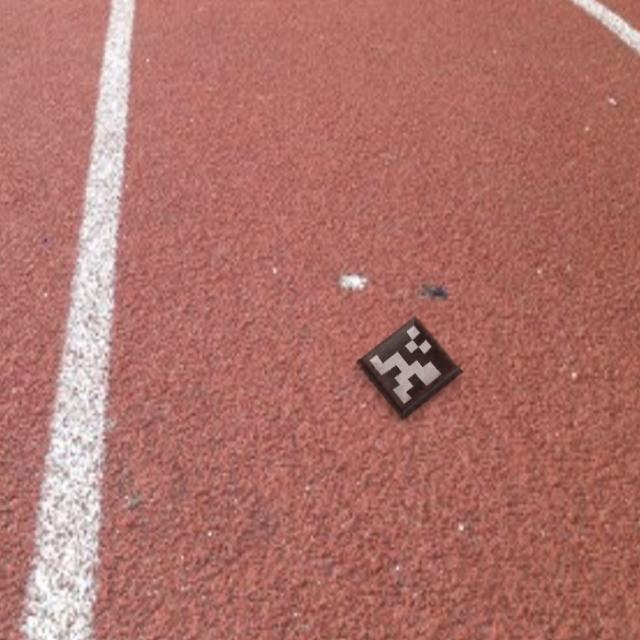marker: (353, 310, 470, 422)
